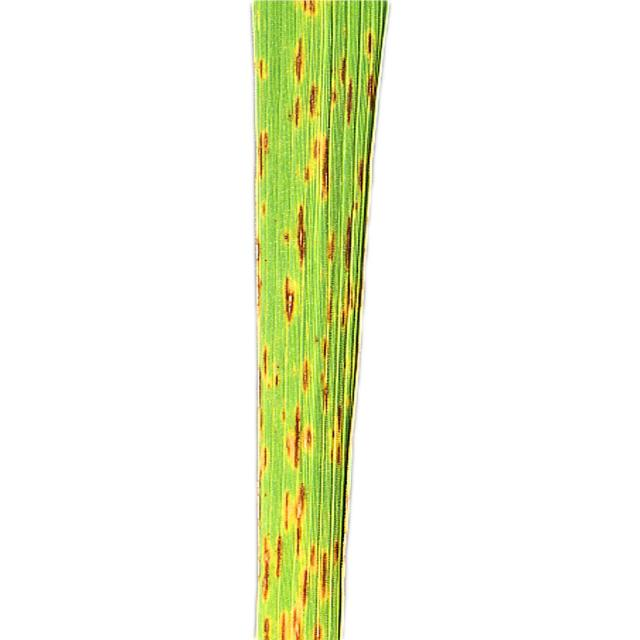Narrow brown: (222, 0, 463, 640)
